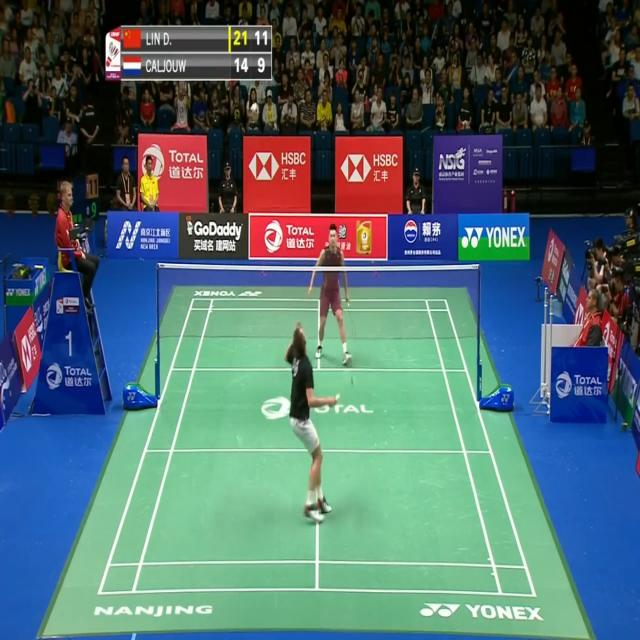Player1: (285, 318, 337, 526)
Player2: (309, 221, 356, 367)
